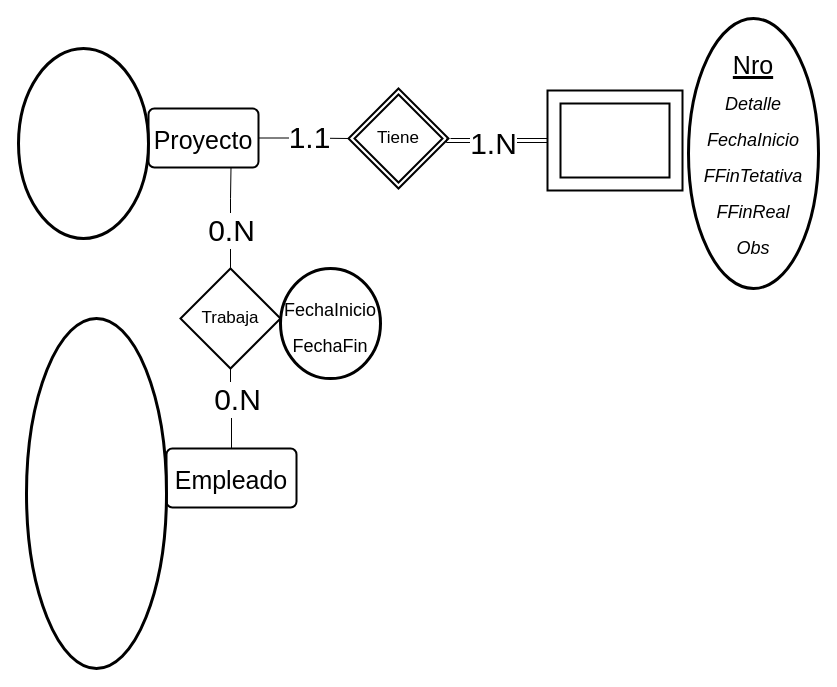
Some shapes in this 837 by 687 pixel diagram are drawn without their labels. The centre of each missing label's shape, as x and y in pixels:
"Etapa" belongs at point 614,140.
"ID Descripcion FechaInicio FechaFin" belongs at point 83,143.
"Legajo Apellido Nombre Direccion Telefono Mail FNacimiento Edad" belongs at point 96,493.
